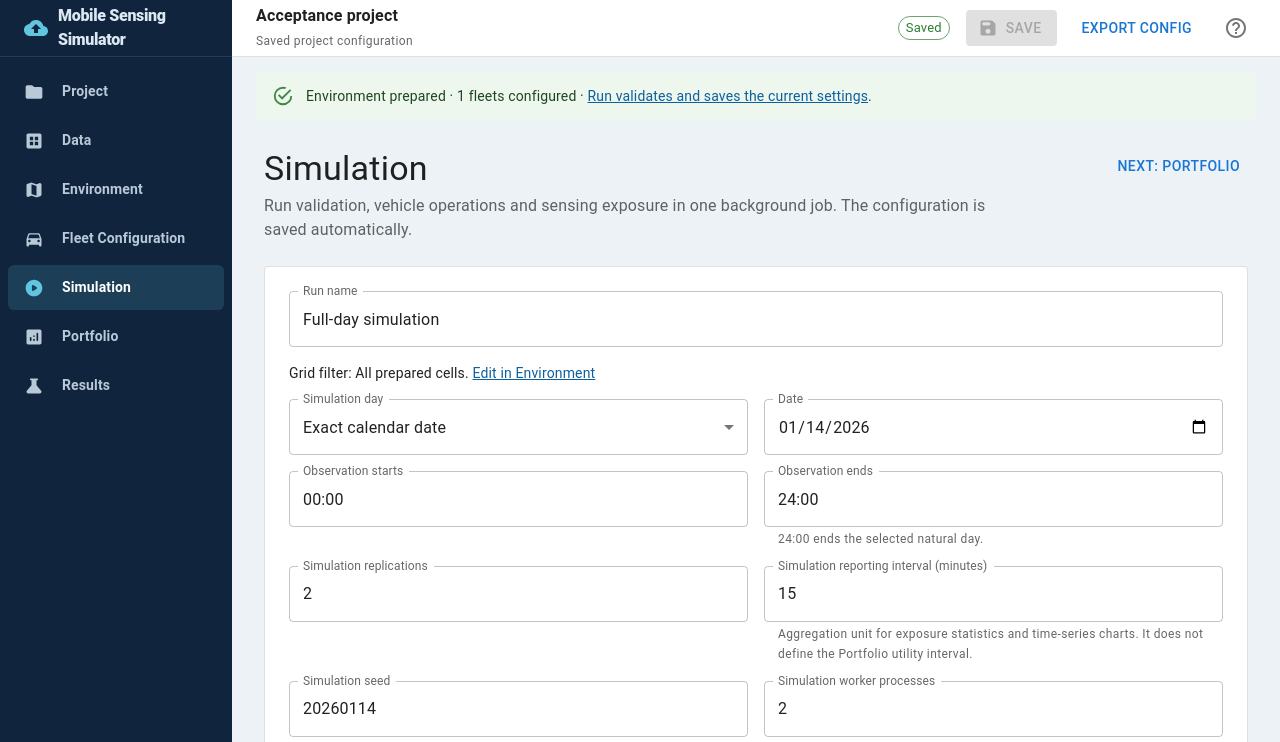
it: MR05 public workbench › separates simulation replications from fleet sampling and never runs on edits
Replace the text in the number field labelled "Simulation replications" with "3" at (518, 594), box x1=289 y1=566 x2=748 y2=622
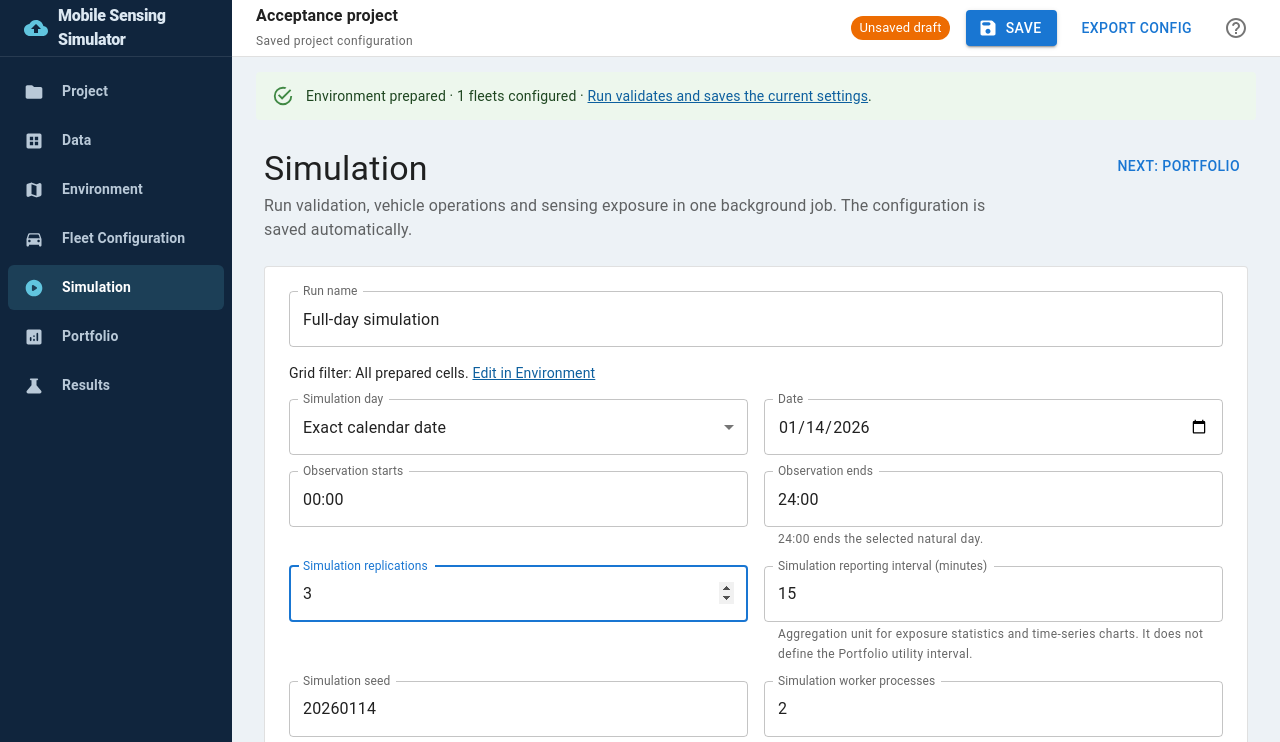
Expected: the number field labelled "Simulation reporting interval (minutes)" is shown, x1=764 y1=566 x2=1223 y2=622
Expected: the number field labelled "Simulation worker processes" holds "2", x1=764 y1=681 x2=1223 y2=737
Click the link "Portfolio".
click(71, 336)  # box x1=24 y1=326 x2=118 y2=346
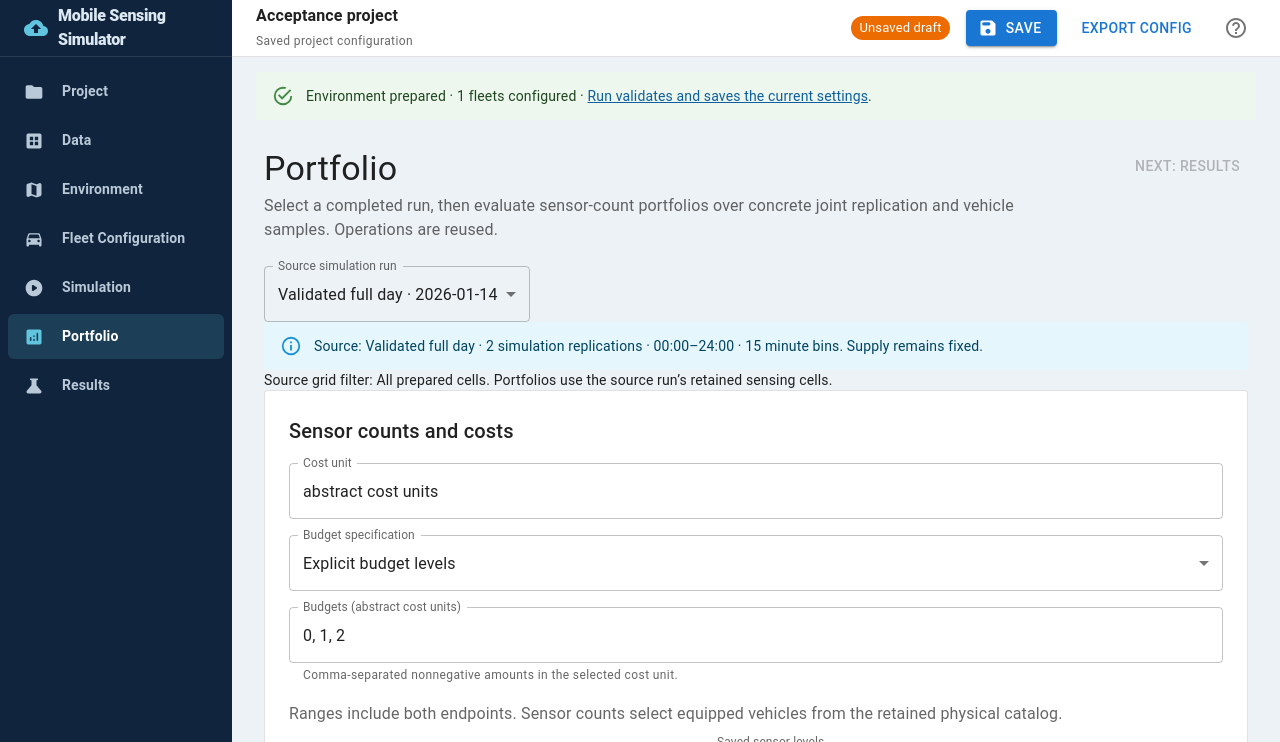
Expected: the field labelled "Budgets (abstract cost units)" is shown, x1=289 y1=607 x2=1223 y2=663
